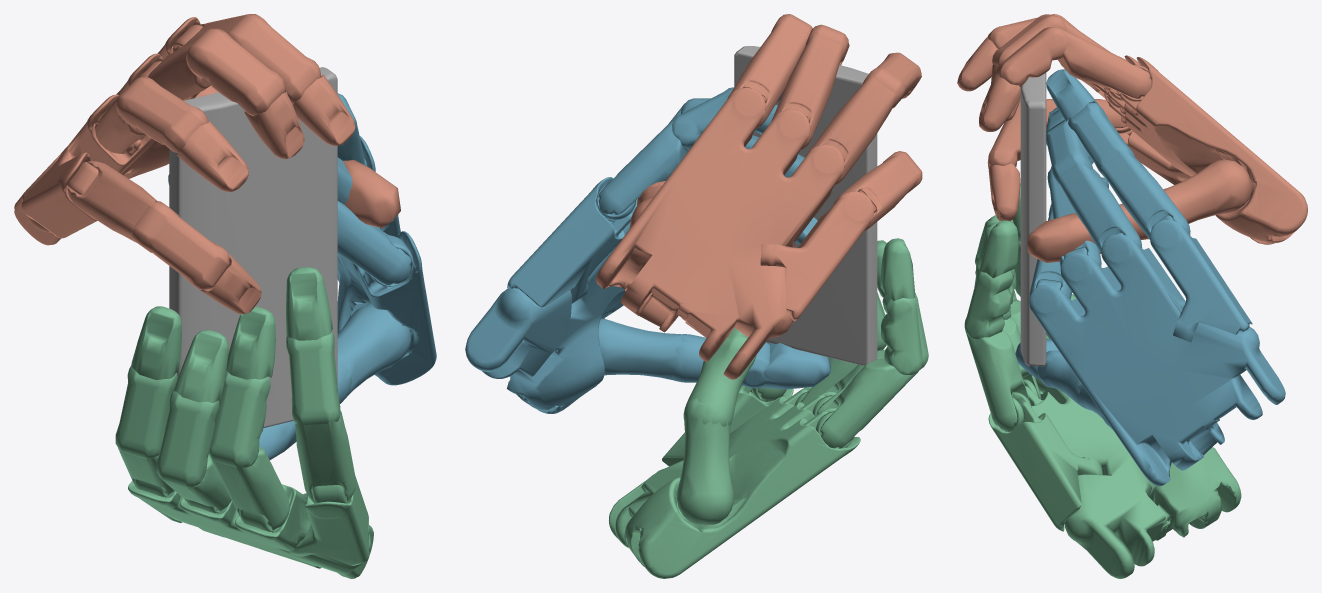
3 views of the same model, side by side, from view 1: azimuth 30°, elevation 25°; view 2: azimuth 150°, elevation 25°; view 3: azimuth 270°, elevation 25° (orthographic). The views are drawn at different scales.
Size of the model in its own units: 0.1724 by 0.2646 by 0.1701.
